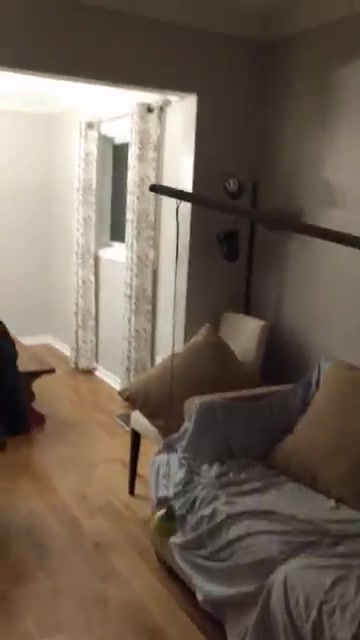tennis_ball: (151, 507, 180, 537)
